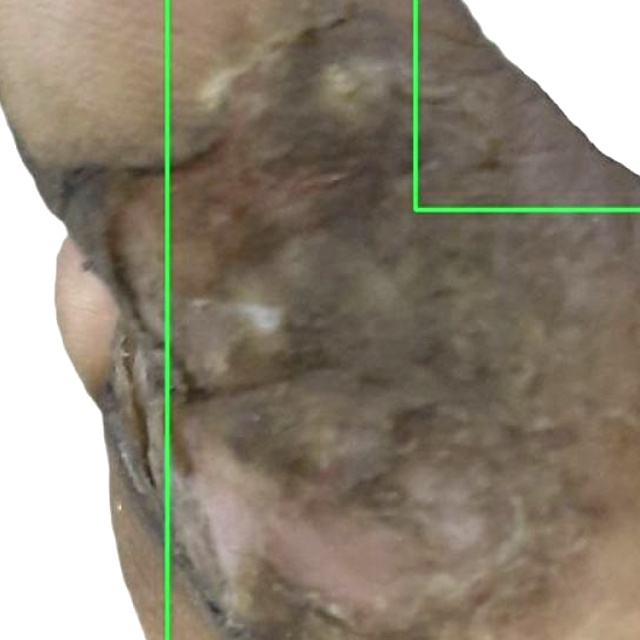Contact Dermatitis: (0, 0, 167, 639), (416, 0, 639, 208)
